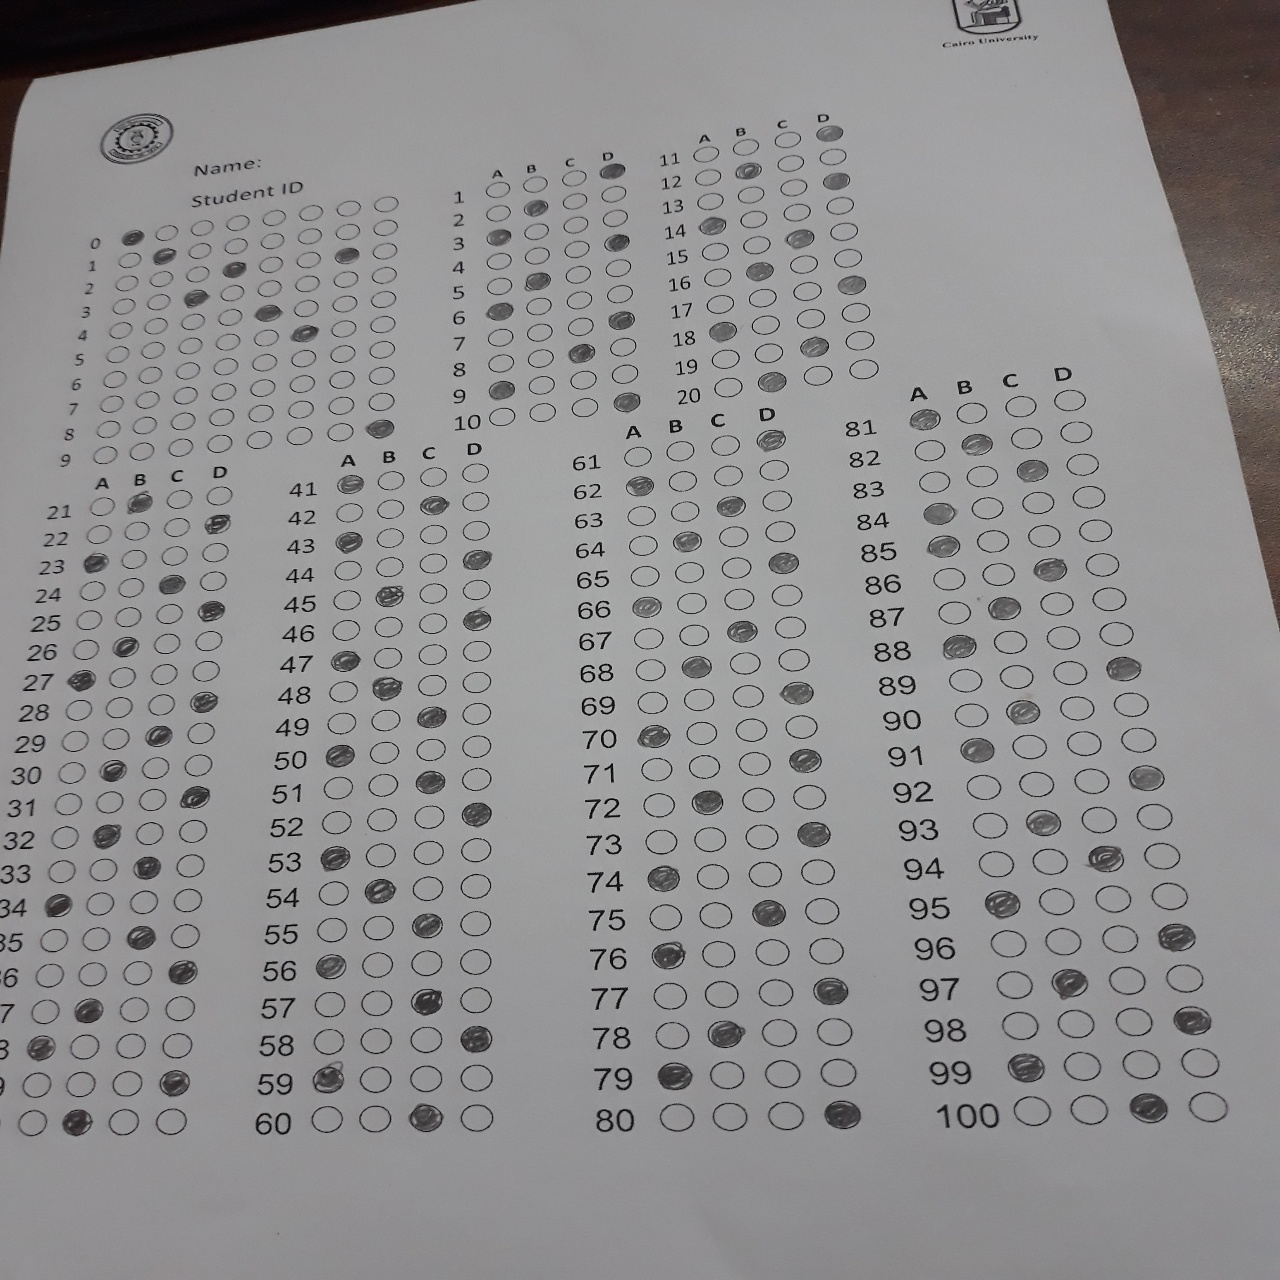not-c: (1180, 1047, 1219, 1077), (1070, 1094, 1109, 1124), (1013, 1094, 1051, 1124), (767, 1101, 805, 1131), (1123, 1049, 1160, 1080), (1055, 1008, 1092, 1039), (708, 1058, 745, 1089), (712, 1101, 749, 1131), (658, 1099, 695, 1130), (1190, 1091, 1228, 1121), (1116, 1005, 1155, 1034), (1001, 1009, 1040, 1039), (764, 1058, 801, 1089), (1064, 1050, 1102, 1080), (971, 810, 1009, 838), (309, 1103, 348, 1131), (15, 1107, 49, 1138), (754, 937, 789, 967), (978, 847, 1014, 877), (358, 986, 394, 1015), (1044, 927, 1082, 955), (990, 928, 1028, 956), (995, 969, 1033, 998), (1165, 964, 1203, 992), (1109, 965, 1146, 993), (455, 1064, 492, 1092), (311, 988, 348, 1016), (312, 1027, 349, 1055), (358, 1024, 395, 1053), (406, 1063, 443, 1091), (356, 1104, 394, 1132), (1143, 842, 1182, 869), (20, 1070, 54, 1101), (699, 899, 734, 928), (701, 939, 736, 968), (653, 980, 688, 1009), (655, 1021, 690, 1050), (762, 1016, 797, 1046), (821, 1056, 856, 1085), (1037, 886, 1074, 914), (410, 1024, 447, 1053), (358, 1065, 394, 1094), (458, 1103, 495, 1131), (1032, 847, 1069, 874), (704, 978, 738, 1007), (799, 857, 835, 885), (648, 901, 683, 930), (817, 1017, 852, 1046), (1058, 418, 1095, 445), (1077, 516, 1114, 543), (1084, 551, 1121, 578), (1021, 488, 1057, 515), (1024, 522, 1061, 549), (954, 399, 990, 425), (965, 461, 1001, 488), (975, 526, 1012, 553), (913, 437, 949, 464), (917, 468, 953, 495), (931, 565, 967, 592), (934, 597, 971, 624), (1051, 658, 1088, 685), (1058, 693, 1095, 720), (1067, 728, 1103, 755), (1074, 767, 1110, 794), (990, 626, 1027, 653), (999, 662, 1035, 689), (1012, 731, 1048, 758), (1017, 769, 1054, 796), (947, 665, 983, 692), (952, 700, 988, 727), (965, 772, 1001, 799), (1137, 801, 1173, 828), (1081, 805, 1117, 832), (1095, 885, 1131, 912), (1151, 881, 1187, 908), (1103, 924, 1139, 951), (760, 976, 794, 1005), (1071, 482, 1107, 509), (1092, 585, 1128, 612), (1003, 392, 1039, 418), (1010, 423, 1046, 450), (1037, 590, 1073, 617), (969, 493, 1005, 520), (1098, 619, 1133, 646), (1114, 689, 1149, 716), (1121, 726, 1156, 753), (1046, 622, 1081, 649), (748, 860, 783, 887), (695, 862, 730, 888), (804, 897, 839, 924), (808, 937, 843, 964), (1054, 386, 1090, 411), (980, 560, 1016, 586), (100, 724, 132, 753), (1065, 449, 1099, 476), (692, 825, 726, 852), (745, 823, 779, 850), (459, 733, 493, 760), (165, 992, 197, 1020), (162, 1032, 193, 1060), (105, 1108, 137, 1136), (94, 788, 125, 816), (321, 808, 354, 835), (458, 835, 491, 862), (458, 910, 491, 937), (121, 960, 154, 987), (114, 1032, 147, 1058), (86, 855, 118, 881), (624, 502, 658, 527), (316, 915, 350, 941), (362, 952, 396, 978), (459, 986, 493, 1012), (757, 457, 792, 482), (760, 488, 795, 512), (772, 613, 808, 638), (669, 497, 704, 522), (675, 591, 710, 615), (628, 564, 663, 588), (644, 829, 679, 853), (120, 996, 150, 1024), (157, 1107, 188, 1135), (69, 1032, 100, 1060), (113, 1069, 144, 1096), (64, 1070, 96, 1097), (365, 840, 397, 866), (413, 803, 445, 829), (461, 700, 493, 726), (411, 874, 444, 900), (360, 913, 393, 939), (458, 947, 491, 973), (665, 467, 699, 491), (715, 524, 749, 549), (720, 554, 754, 579), (632, 626, 666, 651), (633, 658, 667, 682), (687, 753, 721, 777), (685, 721, 719, 745), (682, 687, 716, 712), (783, 713, 817, 737), (709, 433, 744, 456), (676, 622, 712, 646), (741, 787, 776, 810), (76, 960, 107, 987), (82, 922, 113, 949), (84, 888, 115, 915), (413, 839, 445, 864), (414, 736, 447, 761), (461, 765, 493, 790), (459, 872, 492, 897), (319, 881, 352, 906), (409, 949, 442, 974), (105, 665, 138, 689), (86, 520, 118, 545), (764, 519, 798, 543), (769, 583, 803, 606), (712, 463, 745, 486), (663, 438, 697, 462), (720, 586, 754, 610), (674, 559, 708, 583), (620, 444, 654, 468), (627, 533, 661, 557), (635, 692, 669, 715), (639, 756, 673, 779), (726, 651, 760, 674), (731, 685, 765, 708), (734, 717, 768, 741), (738, 750, 772, 774), (776, 647, 810, 670), (794, 784, 828, 808), (642, 791, 676, 815), (32, 998, 62, 1023), (461, 489, 493, 512), (459, 578, 492, 601), (141, 756, 173, 779), (103, 695, 136, 719), (459, 459, 491, 483), (461, 517, 492, 540), (459, 670, 491, 694), (417, 611, 449, 634), (415, 644, 447, 667), (370, 647, 402, 670), (332, 558, 363, 581), (326, 678, 358, 701), (367, 808, 399, 831), (324, 776, 355, 799), (182, 753, 213, 776), (132, 821, 164, 844), (169, 924, 200, 947), (127, 888, 158, 912), (86, 493, 117, 517), (64, 697, 96, 721), (373, 617, 406, 639), (35, 962, 64, 987), (376, 469, 407, 492), (376, 497, 407, 520), (416, 523, 447, 546), (375, 554, 406, 578), (331, 617, 361, 640), (369, 738, 400, 762), (368, 772, 399, 796), (147, 693, 177, 716), (138, 787, 169, 810), (77, 578, 108, 601), (56, 760, 87, 783), (47, 859, 77, 883), (415, 675, 447, 697), (334, 499, 366, 522), (331, 590, 362, 612), (370, 709, 402, 731), (176, 819, 207, 842), (175, 853, 206, 876), (172, 888, 204, 911), (53, 792, 84, 815), (39, 927, 70, 949), (738, 207, 771, 229), (463, 639, 493, 661), (418, 465, 449, 488), (417, 550, 448, 572), (418, 583, 449, 605), (375, 527, 406, 550), (327, 710, 358, 733), (75, 610, 105, 632), (69, 639, 100, 661), (62, 729, 93, 751), (49, 825, 80, 847), (801, 365, 835, 384), (162, 516, 193, 537), (159, 545, 191, 566), (122, 520, 154, 542), (148, 662, 179, 683), (774, 154, 806, 173), (782, 202, 815, 222), (790, 280, 823, 300), (787, 254, 819, 274), (794, 308, 826, 328), (731, 135, 764, 155), (744, 286, 777, 306), (749, 314, 782, 334), (753, 342, 785, 362), (844, 331, 877, 350), (693, 168, 726, 188), (695, 190, 728, 210), (697, 240, 730, 260), (704, 293, 737, 313), (713, 376, 745, 396), (127, 441, 159, 461), (113, 248, 145, 268), (484, 200, 515, 222), (164, 488, 195, 509), (120, 547, 150, 568), (195, 629, 225, 651), (151, 631, 182, 652), (772, 130, 804, 150), (777, 176, 809, 196), (741, 234, 772, 254), (690, 143, 722, 163), (702, 266, 734, 286), (203, 485, 234, 505), (202, 542, 233, 561), (197, 570, 229, 590), (155, 602, 186, 622), (113, 607, 144, 627), (258, 207, 290, 227), (247, 377, 279, 397), (215, 306, 246, 326), (212, 331, 244, 350), (210, 356, 241, 376), (169, 410, 200, 430), (183, 241, 215, 261), (135, 365, 166, 384), (91, 420, 123, 440), (527, 374, 557, 395), (523, 321, 552, 342), (522, 244, 551, 265), (520, 219, 550, 240), (522, 172, 551, 193), (483, 179, 512, 200), (485, 251, 515, 272), (484, 275, 513, 297), (486, 326, 516, 347), (489, 406, 518, 427), (710, 349, 743, 368), (846, 359, 879, 377), (256, 256, 288, 274), (223, 212, 256, 231), (243, 430, 275, 449), (141, 314, 173, 333), (107, 273, 139, 292), (524, 297, 554, 316), (117, 577, 148, 597), (191, 661, 222, 681), (186, 722, 217, 742), (220, 236, 251, 256), (205, 406, 236, 425), (170, 384, 200, 404), (179, 311, 210, 331), (186, 217, 217, 237), (150, 222, 181, 241), (145, 268, 176, 288), (102, 343, 132, 363), (840, 302, 872, 321), (736, 184, 768, 203), (527, 347, 556, 368), (486, 352, 515, 373), (258, 231, 290, 250), (252, 278, 284, 297), (251, 328, 282, 347), (248, 353, 280, 372), (245, 404, 277, 423), (217, 282, 248, 301), (207, 382, 239, 401), (164, 437, 196, 456), (173, 335, 205, 354), (142, 291, 173, 309), (131, 390, 163, 409), (88, 443, 120, 462), (100, 368, 131, 387), (282, 425, 313, 444), (204, 434, 234, 452), (172, 360, 203, 379), (181, 264, 211, 282), (137, 341, 168, 360), (129, 416, 159, 435), (98, 394, 129, 413), (103, 320, 134, 339), (105, 297, 136, 315), (599, 183, 627, 203), (606, 284, 634, 304), (565, 290, 593, 309), (570, 369, 598, 389), (527, 401, 556, 421), (372, 217, 400, 237), (335, 198, 363, 218), (299, 202, 327, 222), (333, 222, 361, 241), (298, 225, 326, 245), (370, 240, 399, 260), (369, 290, 397, 309), (368, 339, 396, 359), (368, 365, 396, 384), (368, 392, 396, 411), (329, 369, 358, 389), (327, 343, 355, 363), (331, 318, 359, 338), (331, 293, 359, 313), (331, 268, 359, 288), (294, 248, 322, 268), (288, 373, 316, 393), (288, 399, 316, 418), (828, 222, 859, 239), (367, 315, 396, 334), (293, 274, 322, 293), (561, 166, 588, 186), (561, 215, 588, 234), (567, 316, 594, 336), (818, 148, 849, 165), (824, 196, 855, 213), (833, 248, 864, 266), (601, 207, 629, 226), (604, 258, 632, 277), (610, 365, 638, 383), (563, 239, 591, 258), (564, 264, 592, 282), (571, 396, 599, 415), (372, 193, 400, 212), (372, 264, 400, 282), (326, 421, 354, 440), (326, 395, 354, 414), (291, 299, 319, 318), (610, 338, 636, 356), (561, 190, 588, 209), (290, 348, 316, 367)
taken-c: (1051, 966, 1092, 996), (1157, 922, 1198, 953), (1084, 842, 1125, 872), (1126, 762, 1167, 792), (1103, 653, 1144, 683), (1006, 1051, 1048, 1081), (982, 593, 1024, 622), (1129, 1092, 1170, 1122), (1171, 1005, 1212, 1034), (981, 887, 1022, 917), (1022, 806, 1063, 836), (1005, 696, 1046, 726), (956, 735, 998, 763), (958, 734, 998, 762), (40, 890, 75, 921), (59, 1107, 95, 1137), (155, 1067, 191, 1097), (1030, 554, 1069, 583), (959, 428, 998, 456), (72, 993, 105, 1024), (25, 1032, 60, 1062), (166, 958, 202, 988), (823, 1099, 860, 1128), (921, 499, 959, 527), (940, 633, 979, 660), (925, 533, 964, 560), (1013, 457, 1051, 484), (907, 406, 946, 433), (123, 922, 158, 952), (408, 1102, 444, 1130), (658, 1062, 695, 1089), (707, 1021, 745, 1047), (457, 1024, 493, 1051), (309, 1065, 346, 1092), (409, 988, 443, 1016), (651, 941, 686, 968), (812, 978, 849, 1003), (80, 549, 114, 576), (726, 617, 760, 644), (788, 745, 822, 772), (690, 789, 724, 816), (796, 821, 830, 847), (753, 898, 787, 925), (646, 865, 680, 892), (372, 583, 406, 610), (459, 799, 493, 826), (362, 876, 396, 903), (108, 634, 143, 660), (124, 490, 159, 516), (332, 470, 367, 496), (329, 648, 365, 674), (370, 674, 406, 700), (415, 704, 450, 730), (413, 769, 448, 795), (129, 853, 163, 879), (91, 822, 125, 847), (177, 783, 211, 809), (95, 757, 129, 783), (142, 723, 176, 749), (188, 688, 222, 714), (66, 666, 100, 692), (193, 598, 227, 624), (155, 571, 189, 597), (200, 511, 234, 537), (622, 474, 656, 499), (670, 529, 704, 554), (332, 527, 366, 553), (417, 491, 451, 517), (459, 546, 493, 572), (459, 606, 493, 632), (324, 742, 358, 768), (316, 844, 350, 870), (410, 911, 444, 937), (315, 953, 349, 979), (754, 425, 787, 451), (781, 679, 813, 704), (768, 550, 799, 576), (714, 492, 747, 517), (629, 594, 662, 619), (681, 653, 714, 678), (638, 723, 670, 748), (522, 268, 553, 292), (486, 377, 517, 401), (484, 300, 515, 324), (365, 417, 396, 440), (483, 226, 515, 248), (252, 302, 285, 324), (290, 324, 322, 345), (799, 335, 830, 358), (836, 274, 866, 297), (821, 168, 851, 190), (813, 122, 844, 144), (182, 287, 213, 308), (785, 226, 815, 248), (734, 159, 764, 181), (757, 372, 787, 393), (745, 261, 775, 282), (697, 213, 727, 234), (597, 161, 626, 181), (606, 311, 635, 331), (151, 246, 179, 266), (602, 232, 631, 252), (567, 343, 595, 363), (613, 392, 641, 411), (520, 197, 550, 216), (118, 226, 145, 246), (333, 246, 360, 266), (220, 260, 248, 279), (709, 322, 737, 341)
